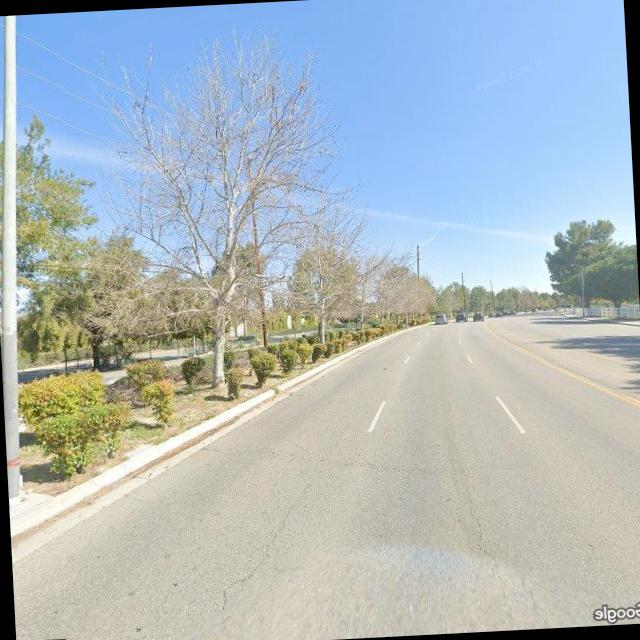pothole: (208, 475, 329, 617), (462, 478, 497, 564)
